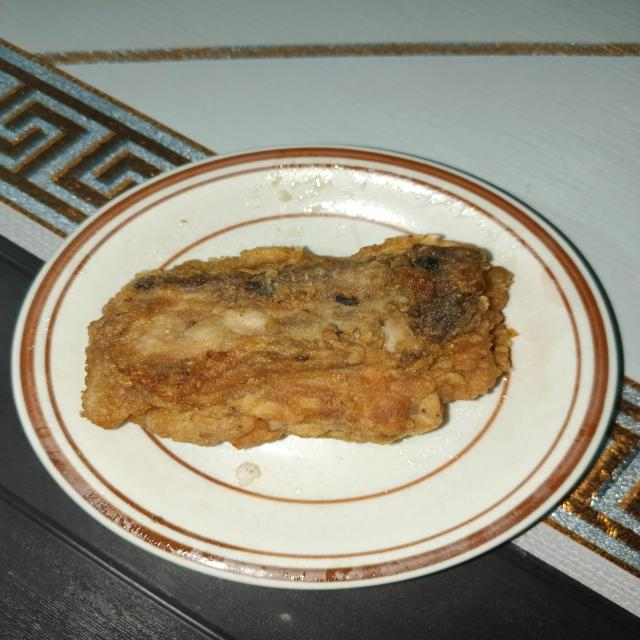Chicken -Fried Chicken-: (93, 225, 513, 450)
